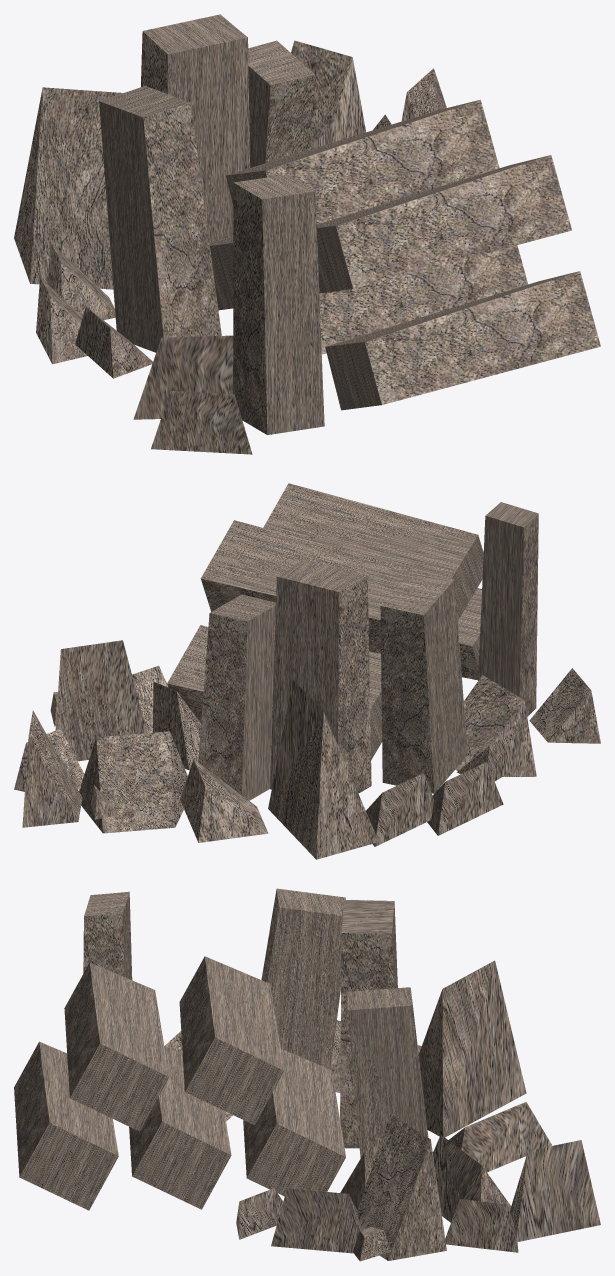
Rendered from poi_all_construction_stone_pile_l2.fbx.
3 renders of one model, top to bottom at view 1: azimuth 30°, elevation 25°; view 2: azimuth 150°, elevation 25°; view 3: azimuth 270°, elevation 25°, orthographic. The views are drawn at different scales.
Parts seen in each view (by area): view 1: mesh_node; view 2: mesh_node; view 3: mesh_node.
Boxes of the visible parts, left/top/right/bottom form: mesh_node: left=14, top=14, right=600, bottom=454; mesh_node: left=14, top=483, right=600, bottom=859; mesh_node: left=14, top=888, right=600, bottom=1261.
Size of the model in its own units: 12.38 by 6.45 by 14.3.
Materials: 1 (1 with a texture image).
